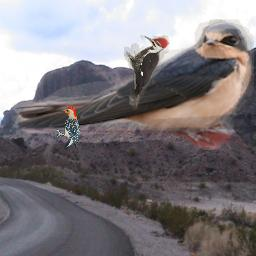Swallow: (12, 18, 254, 150)
Woodpecker: (124, 35, 170, 110), (56, 107, 80, 149)
